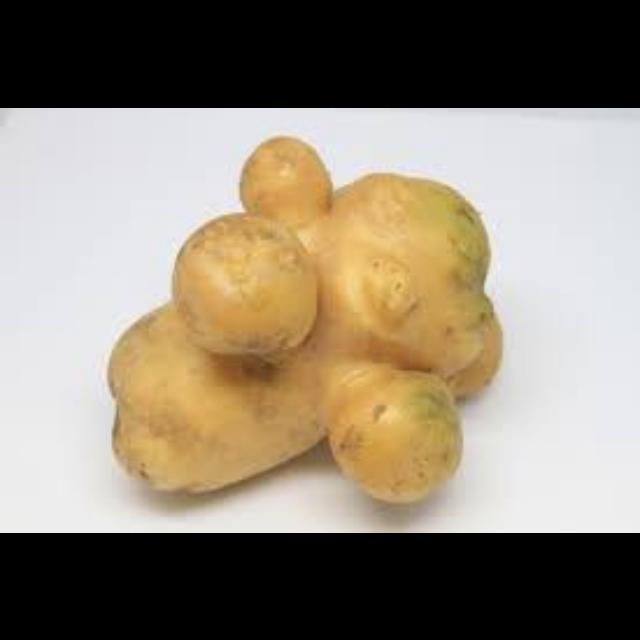Damaged potato: (91, 130, 512, 506)
